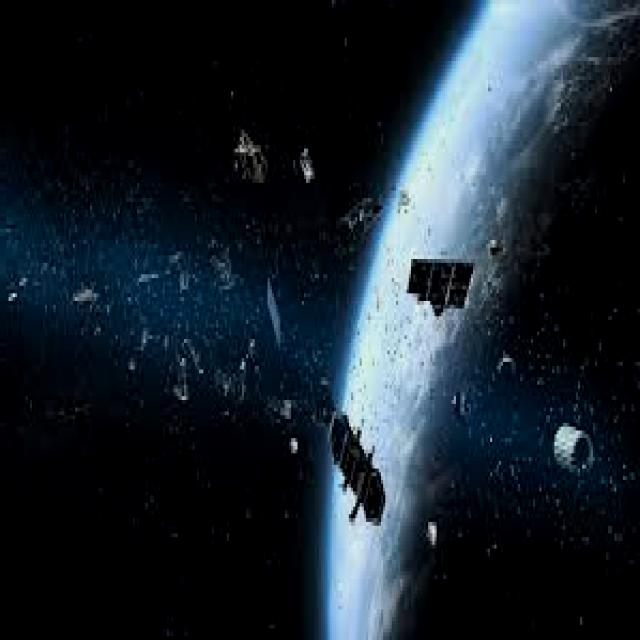large_debris: (304, 386, 411, 552), (161, 315, 277, 429), (0, 248, 124, 330), (226, 126, 329, 200), (395, 246, 481, 334), (134, 245, 242, 315), (538, 402, 606, 498), (338, 178, 375, 246), (485, 356, 530, 392), (482, 215, 509, 273), (441, 391, 478, 428), (420, 505, 443, 560)
